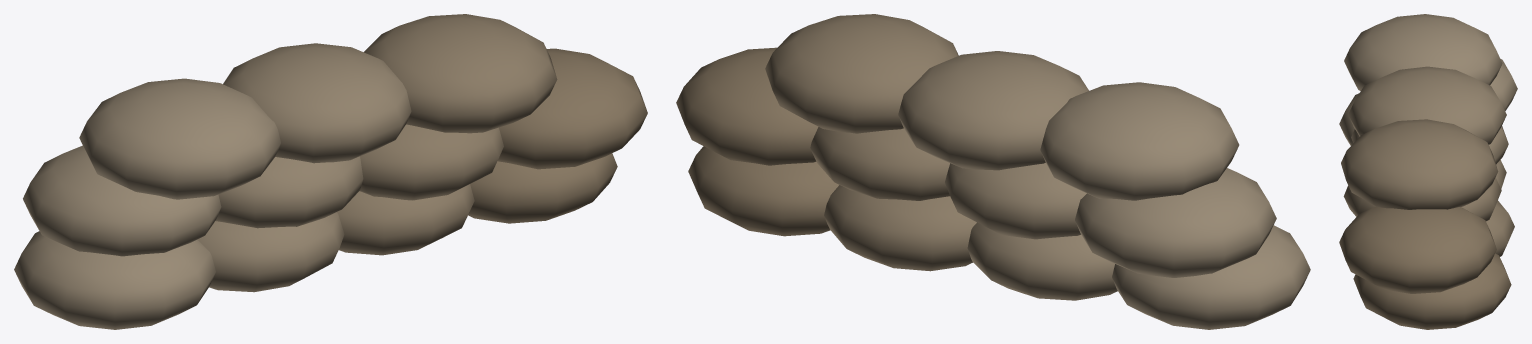
The model's file is SandbagCover.fbx.
The picture shows the model from 3 angles, left to right: view 1: azimuth 30°, elevation 25°; view 2: azimuth 150°, elevation 25°; view 3: azimuth 270°, elevation 25°; orthographic projection. The views are drawn at different scales.
Parts seen in each view (by area): view 1: SandbagCover; view 2: SandbagCover; view 3: SandbagCover.
Boxes of the visible parts, box(x1,y1,x2,y2) form: SandbagCover: box(14, 14, 647, 329); SandbagCover: box(676, 14, 1310, 329); SandbagCover: box(1339, 14, 1517, 329).
Size of the model in its own units: 1.71 by 0.532 by 0.5516.
